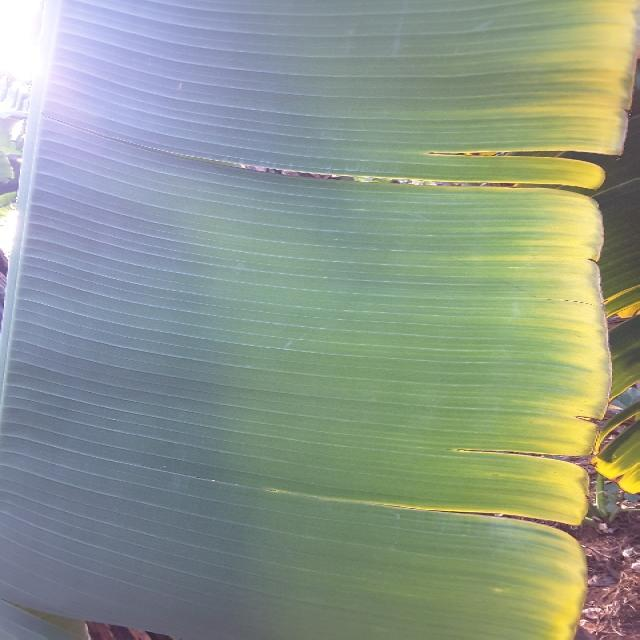Cordana: (229, 5, 640, 640)
